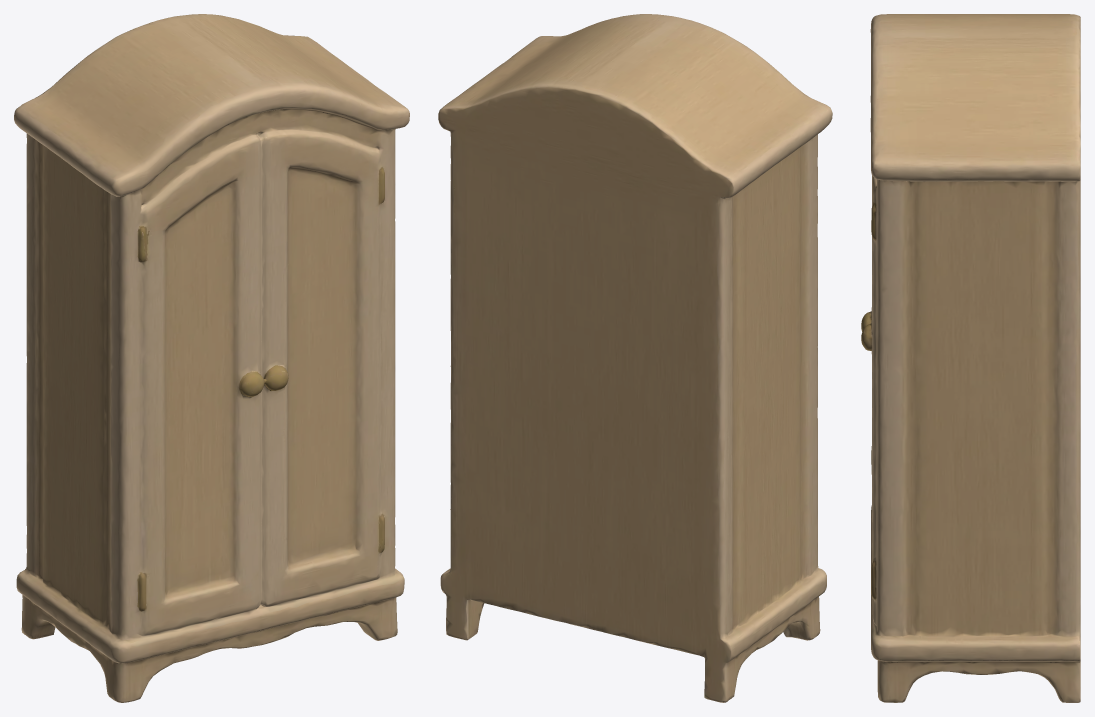
Rendered from bilik_wardrobe.glb.
The picture shows the model from 3 angles, left to right: view 1: azimuth 30°, elevation 25°; view 2: azimuth 150°, elevation 25°; view 3: azimuth 270°, elevation 25°; orthographic projection. The views are drawn at different scales.
Size of the model in its own units: 0.5381 by 1 by 0.3315.
1 material, 1 textured.
